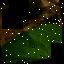Morning glory: (0, 3, 64, 64)
